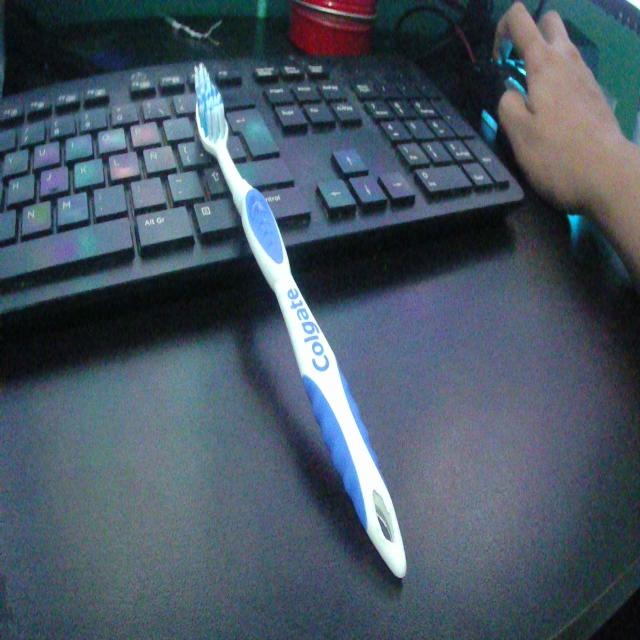Organico: (191, 51, 418, 589)
